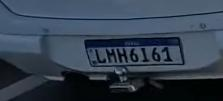Placa_mercosul_carro: (84, 37, 186, 67)
